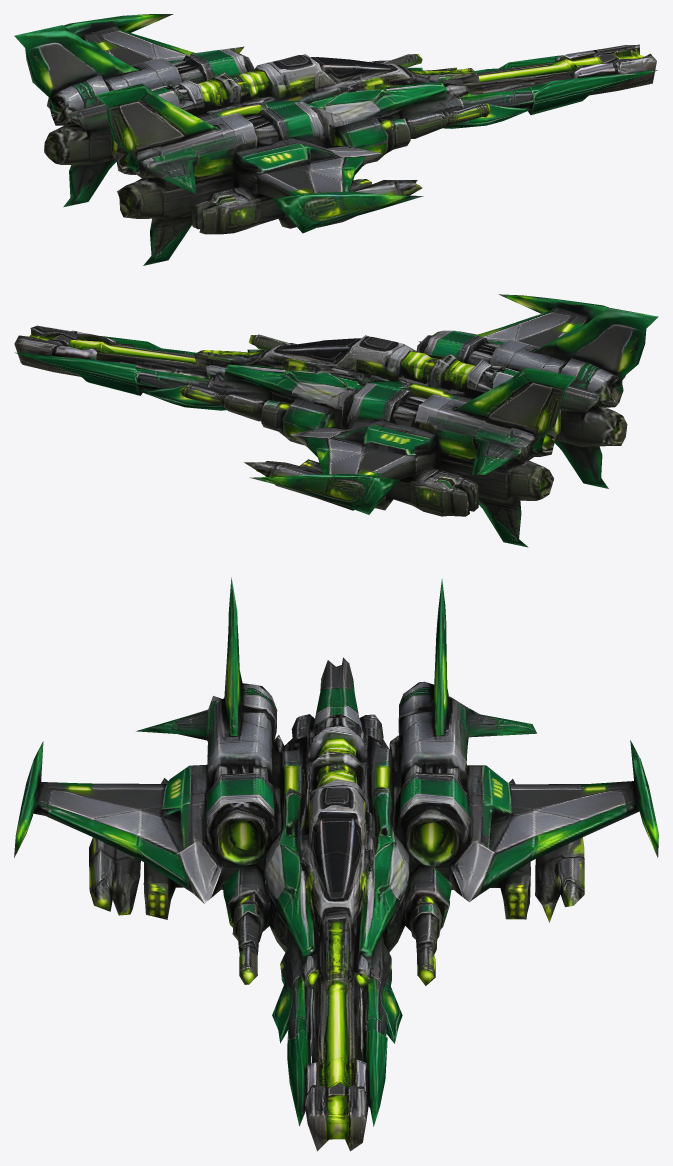
Rendered from offensive_lvl_2-2.glb.
The picture shows the model from 3 angles, top to bottom: view 1: azimuth 30°, elevation 25°; view 2: azimuth 150°, elevation 25°; view 3: azimuth 270°, elevation 25°; orthographic projection. The views are drawn at different scales.
Visible parts, largest first — view 1: tripo_node_49afc613-ad7f-47ad-bd26-e7210b2cfbe6; view 2: tripo_node_49afc613-ad7f-47ad-bd26-e7210b2cfbe6; view 3: tripo_node_49afc613-ad7f-47ad-bd26-e7210b2cfbe6.
Part boxes in pixels (x1,y1,x2,y2): tripo_node_49afc613-ad7f-47ad-bd26-e7210b2cfbe6: (14,14,657,265); tripo_node_49afc613-ad7f-47ad-bd26-e7210b2cfbe6: (14,294,658,547); tripo_node_49afc613-ad7f-47ad-bd26-e7210b2cfbe6: (14,577,658,1151).
Bounding box in the file's own units: 0.9795 × 0.29 × 0.7157.
Materials: 1 (1 with a texture image).
